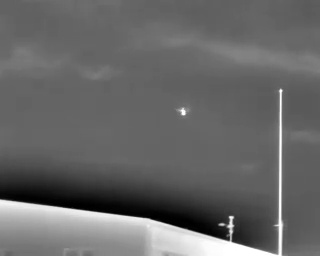HELICOPTER: (173, 103, 194, 119)
